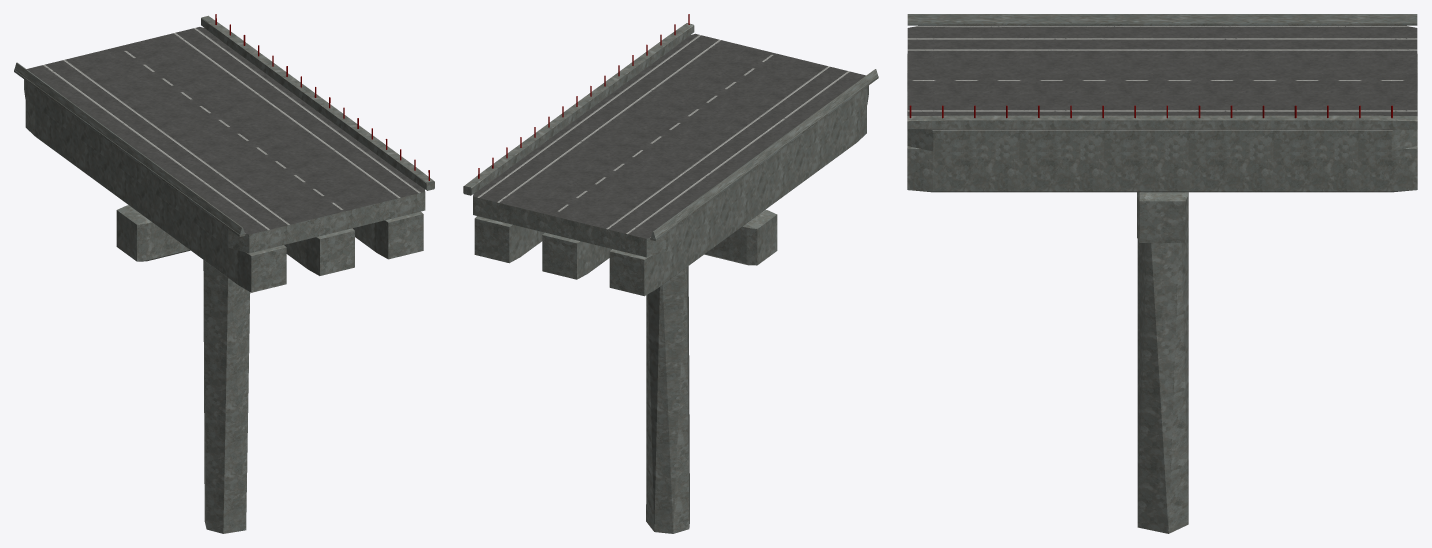
3 views of the same model, side by side, from view 1: azimuth 30°, elevation 25°; view 2: azimuth 150°, elevation 25°; view 3: azimuth 270°, elevation 25° (orthographic). The views are drawn at different scales.
Parts seen in each view (by area): view 1: structure1.001; view 2: structure1.001; view 3: structure1.001.
Boxes of the visible parts, <box> form: structure1.001: <box>14,14,434,533</box>; structure1.001: <box>463,14,878,533</box>; structure1.001: <box>907,14,1417,533</box>.
Bounding box in the file's own units: 10 × 20.21 × 20.
4 materials, 3 textured.
